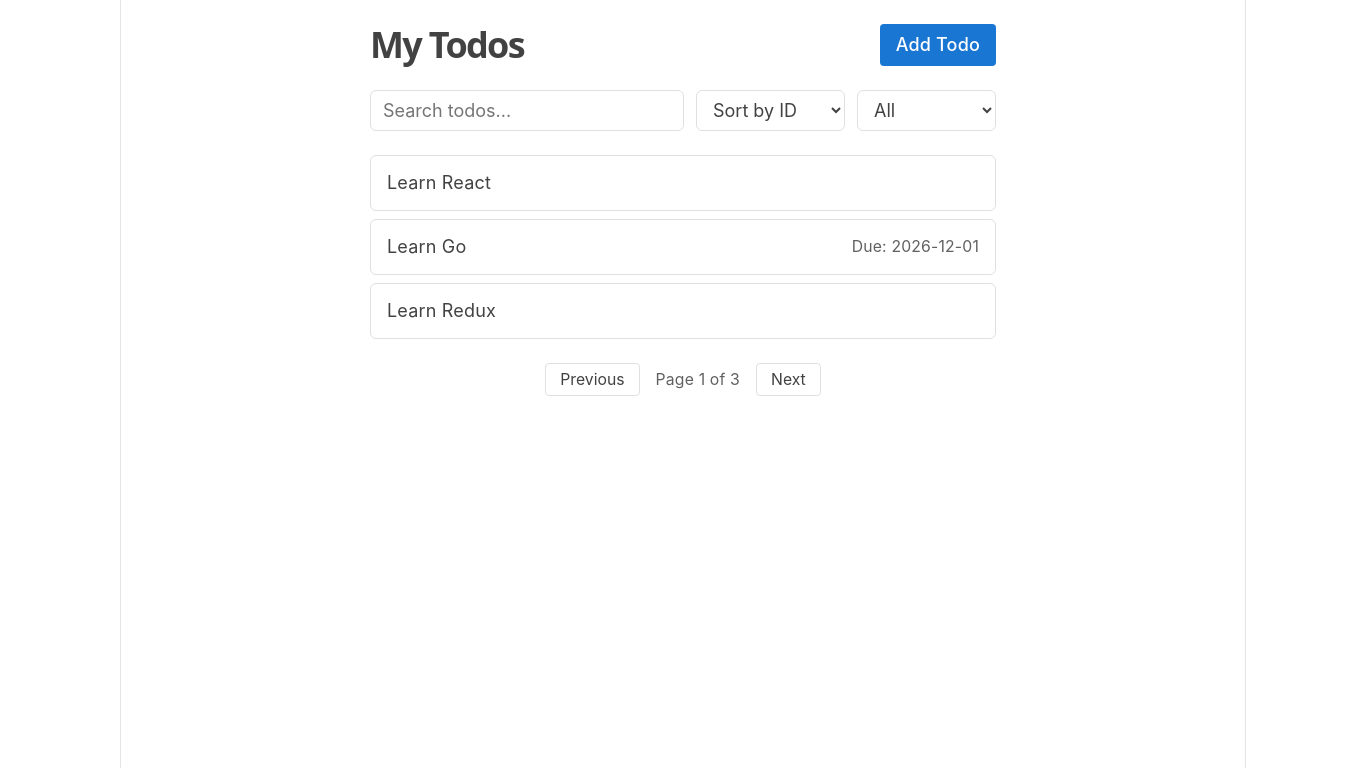
Test: HomePage todo list › goes back to the first page when a filter changes
Expected: the text "Learn React" is shown, [387,170,491,196]
Click the button "Next".
click(788, 380)  # box [756,363,821,396]
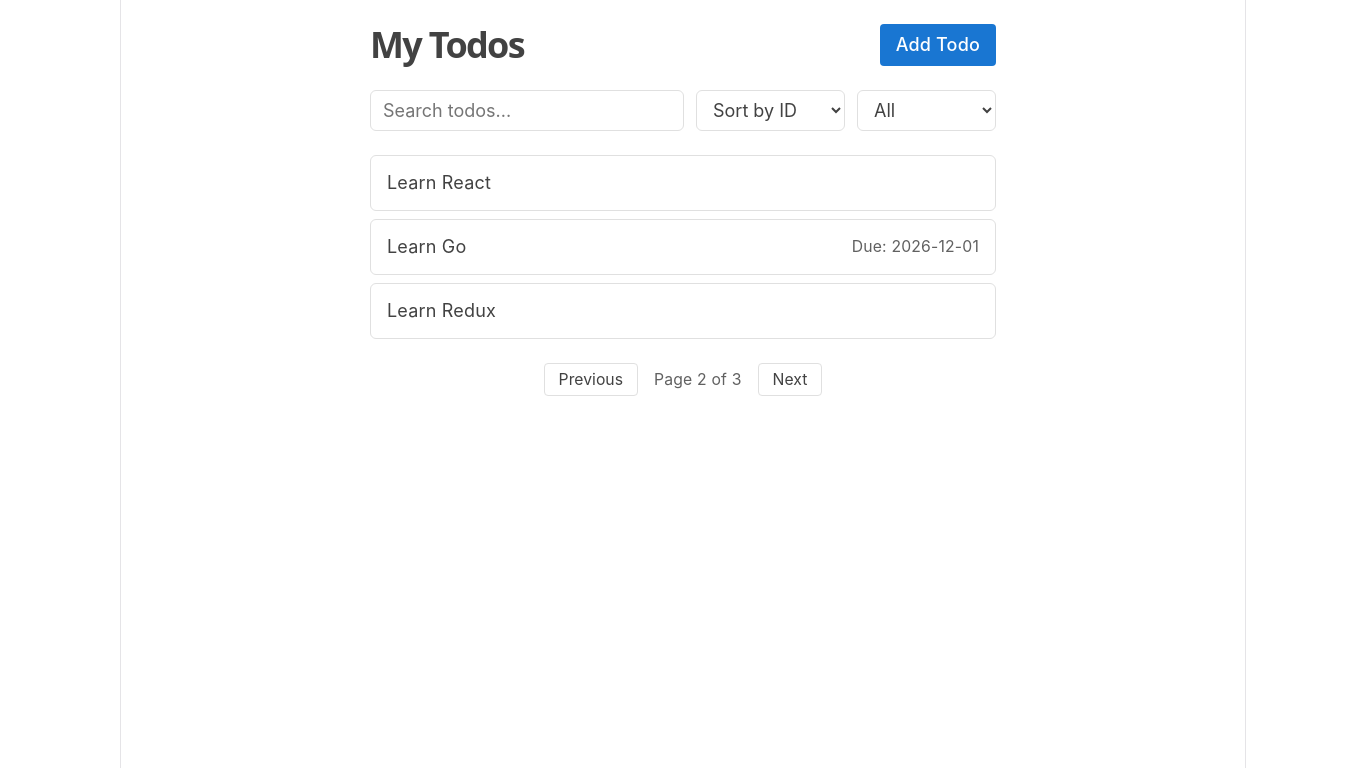
Now the text "Page 2 of 3" is shown, box [654,367,742,393]
Select "Pending" in the 2nd dropdown at (926, 111), box [857,90,996,131]
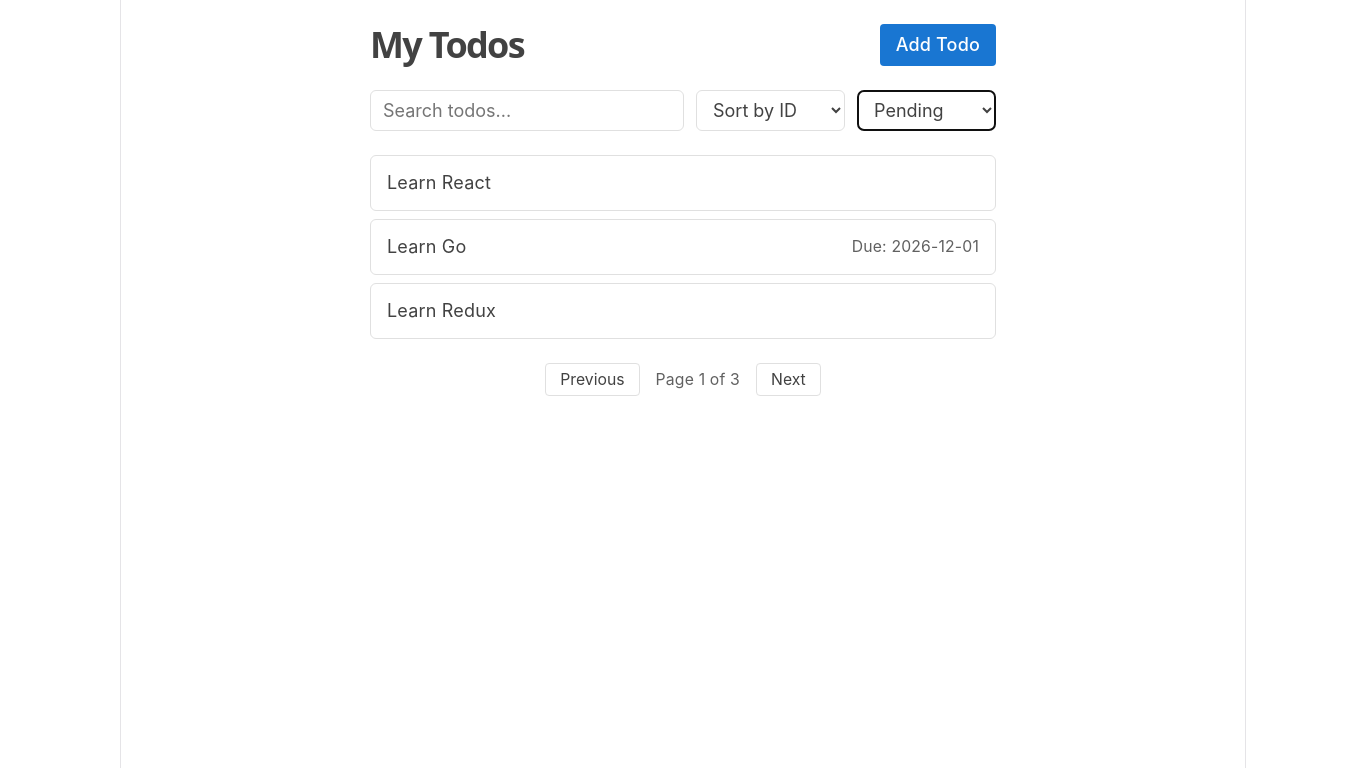
Now the text "Page 1 of 3" is shown, box [656,367,740,393]
